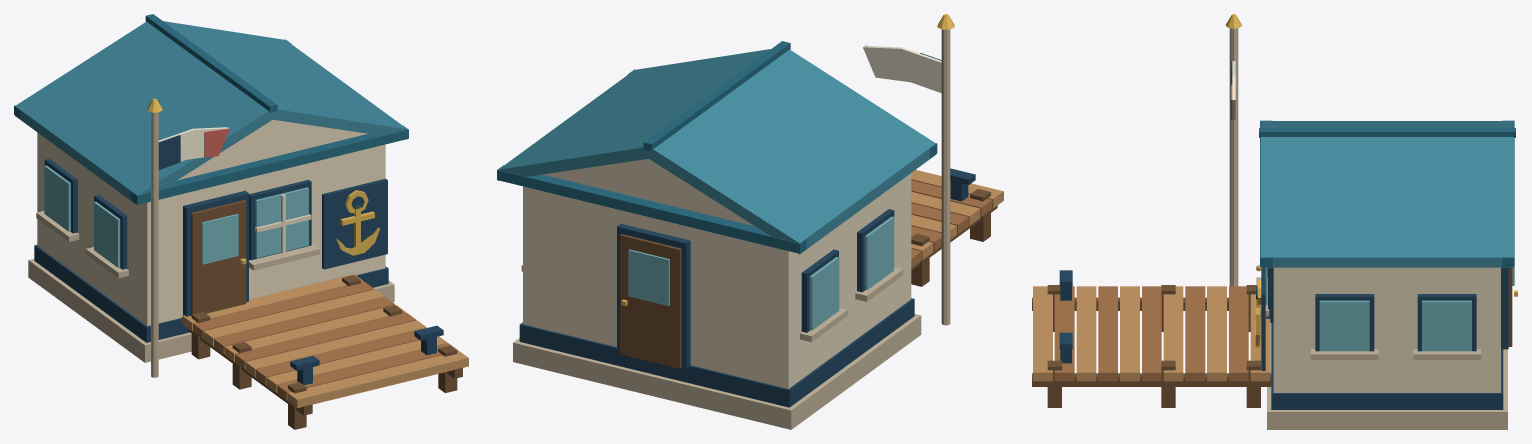
Rendered from marina-captaincy-narrow.glb.
The picture shows the model from 3 angles, left to right: view 1: azimuth 30°, elevation 25°; view 2: azimuth 150°, elevation 25°; view 3: azimuth 270°, elevation 25°; orthographic projection. The views are drawn at different scales.
Visible parts, largest first — view 1: MarinaCaptaincy; view 2: MarinaCaptaincy; view 3: MarinaCaptaincy.
Part boxes in pixels (x1=…): MarinaCaptaincy: x1=14, y1=14, x2=468, y2=429; MarinaCaptaincy: x1=497, y1=14, x2=1003, y2=429; MarinaCaptaincy: x1=1032, y1=14, x2=1517, y2=429.
Size of the model in its own units: 5.75 by 5.55 by 8.54.
Materials: 1 (1 with a texture image).
